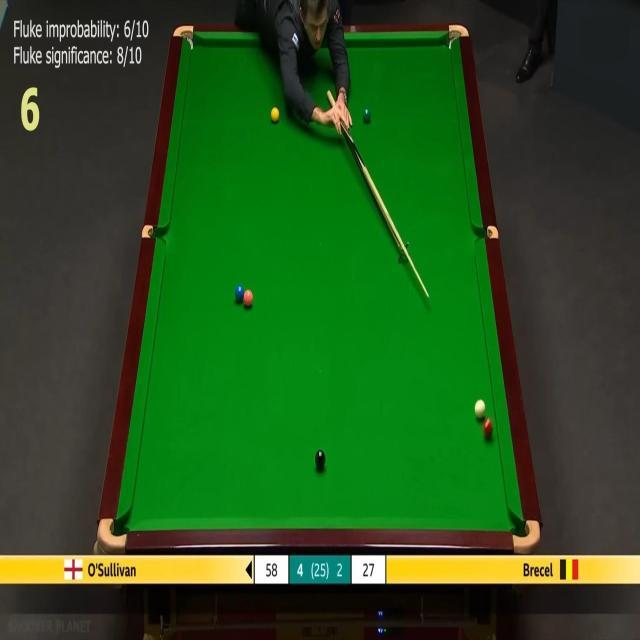Ball: (474, 398, 486, 418), (314, 450, 326, 468), (483, 418, 493, 438), (234, 284, 244, 301), (243, 290, 253, 306), (270, 106, 280, 122), (362, 108, 370, 122)
